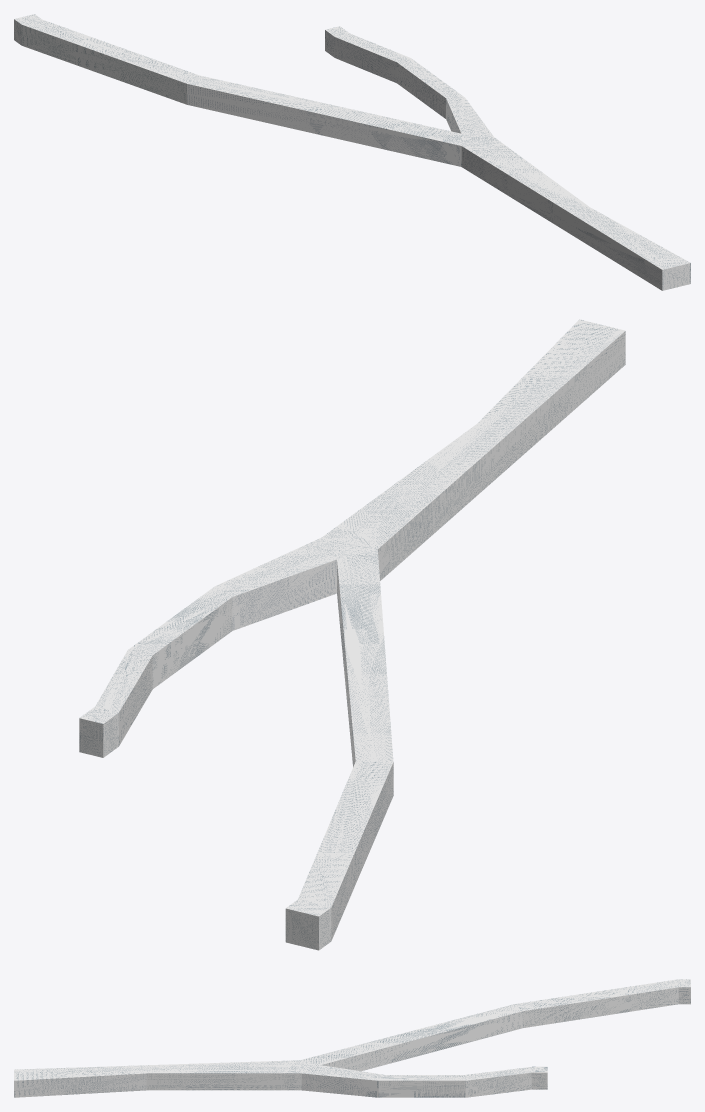
Rendered from Branch4.fbx.
3 renders of one model, top to bottom at view 1: azimuth 30°, elevation 25°; view 2: azimuth 150°, elevation 25°; view 3: azimuth 270°, elevation 25°, orthographic. The views are drawn at different scales.
Parts seen in each view (by area): view 1: Group_74_1; view 2: Group_74_1; view 3: Group_74_1.
Boxes of the visible parts, x1,y1,x2,y2 form: Group_74_1: (14, 14, 690, 290); Group_74_1: (79, 319, 625, 950); Group_74_1: (14, 979, 690, 1097).
Size of the model in its own units: 0.2103 by 0.0164 by 0.592.
